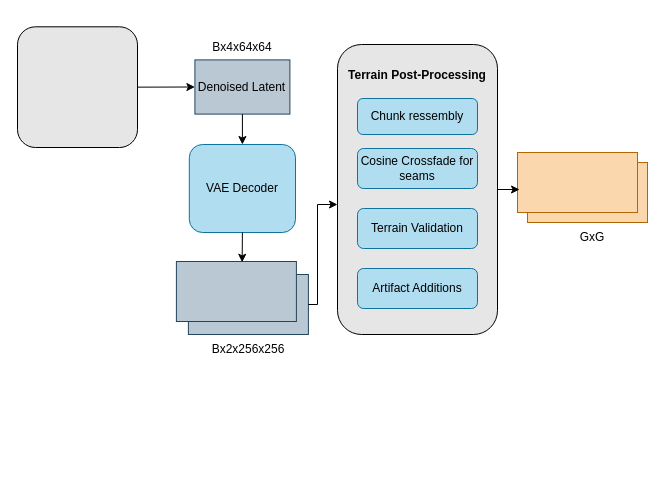
The diagram is 665 pixels wide and 490 high, and some of its shapes have lost their labels. The centre of each missing label's shape, as x and y in pixels:
"Batch of chunked marcro height and biome maps" goes at pixel 235 291.
"Diffusion Pipeline" goes at pixel 77 87.
"World Map" goes at pixel 577 182.
